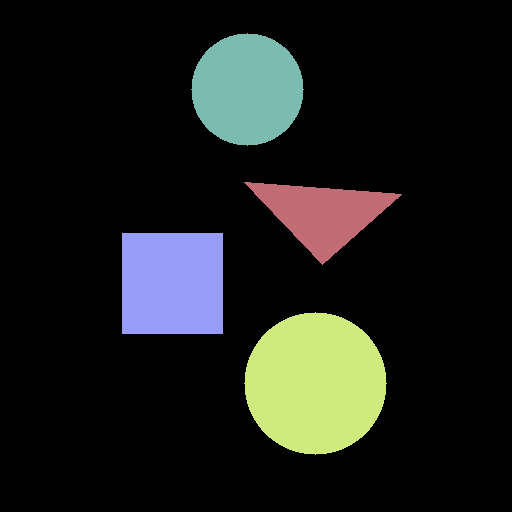circle: (244, 312, 386, 454), (191, 33, 303, 145)
square: (122, 233, 222, 333)
triangle: (244, 182, 401, 264)
